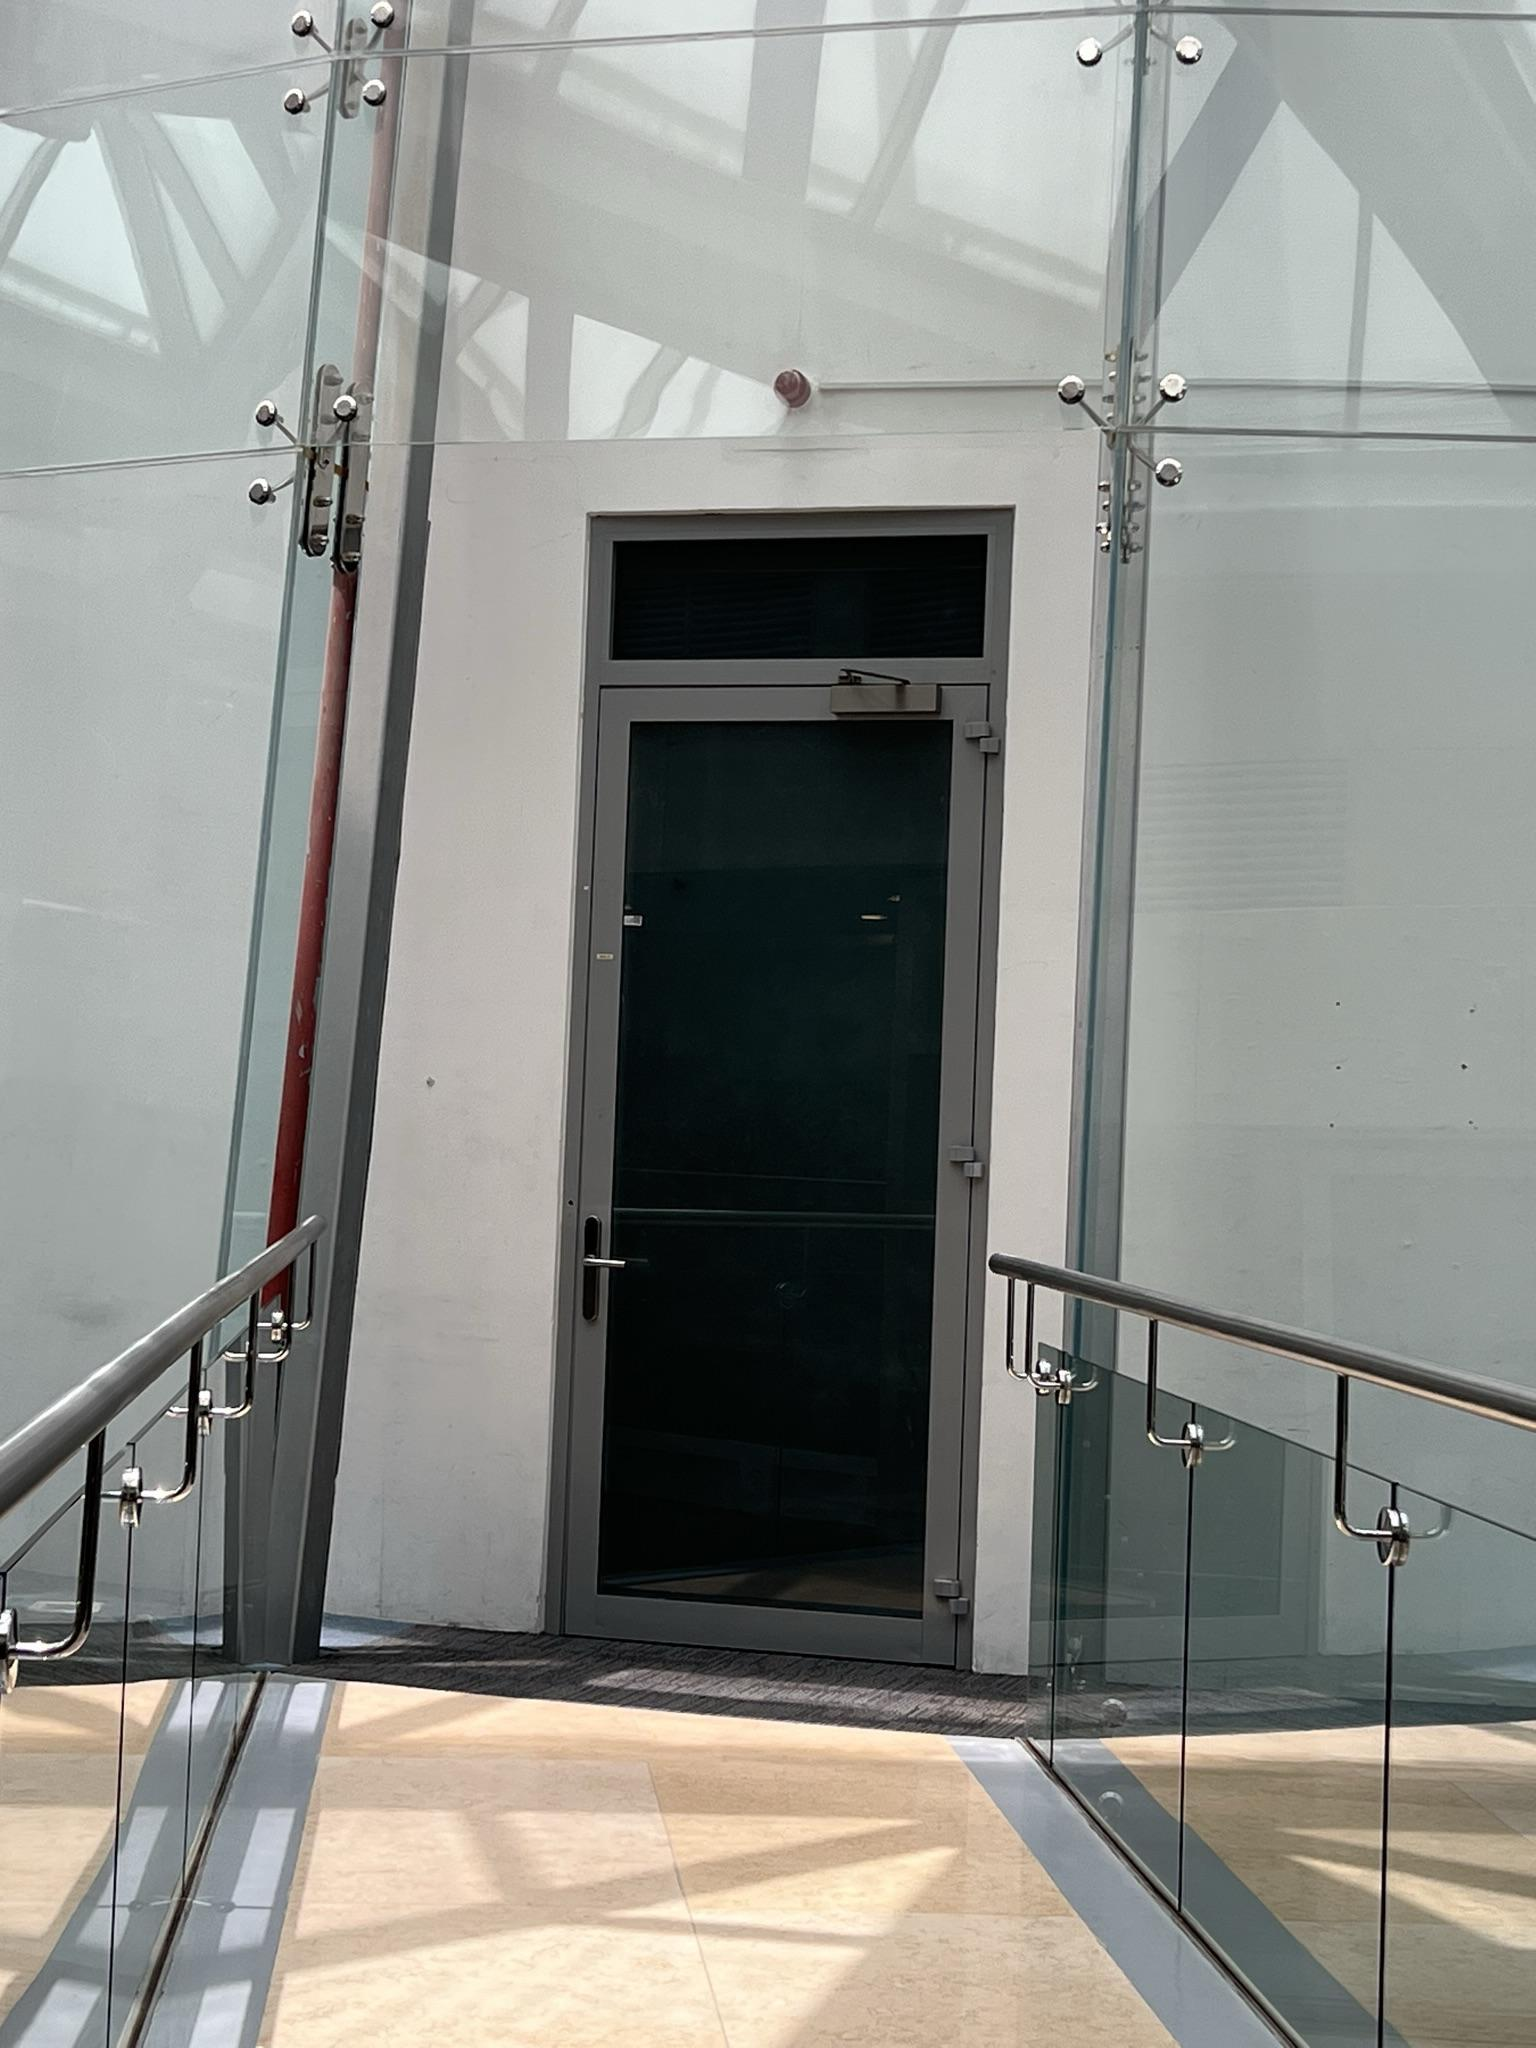door: (544, 485, 1020, 1650)
handle: (566, 1201, 658, 1330)
